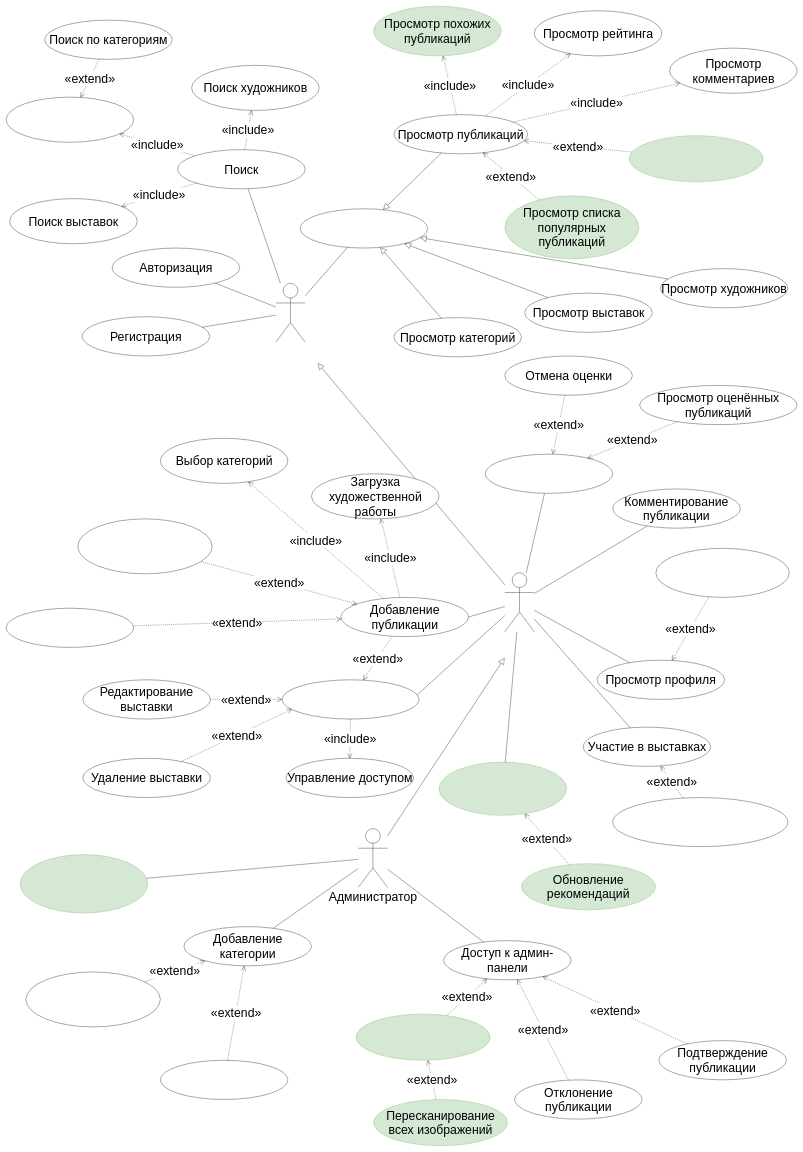
Image size: 803x1152. Some labels were removed from this diagram. The centre of each missing label's shape, as x and y in pixels:
"Добавление выставки" belongs at pixel 350 699.
"Оценивание публикации" belongs at pixel 549 473.
"Переобучение модели рекомендаций" belongs at pixel 84 883.
"Пересканирование изображений" belongs at pixel 423 1037.
"Поиск публикаций" belongs at pixel 70 119.
"Посетитель" belongs at pixel 290 312.
"Просмотр рекомендованных публикаций" belongs at pixel 503 788.
"Просмотр сайта" belongs at pixel 364 228.
"Просмотр списка новых публикаций" belongs at pixel 696 158.
"Редактирование категории" belongs at pixel 93 999.
"Редактирование отклонённой публикации" belongs at pixel 144 546.
"Редактирование профиля" belongs at pixel 722 572.
"Удаление категории" belongs at pixel 224 1079.
"Удаление публикации" belongs at pixel 70 627.
"Удаление публикаций из выставки" belongs at pixel 700 822.
"Художник" belongs at pixel 519 602.
